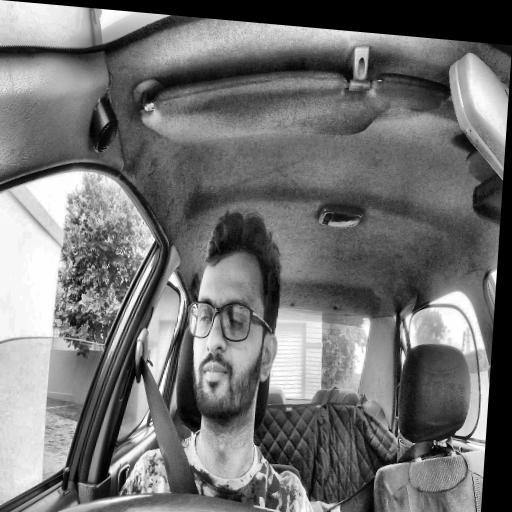drowsy: (180, 206, 287, 429)
